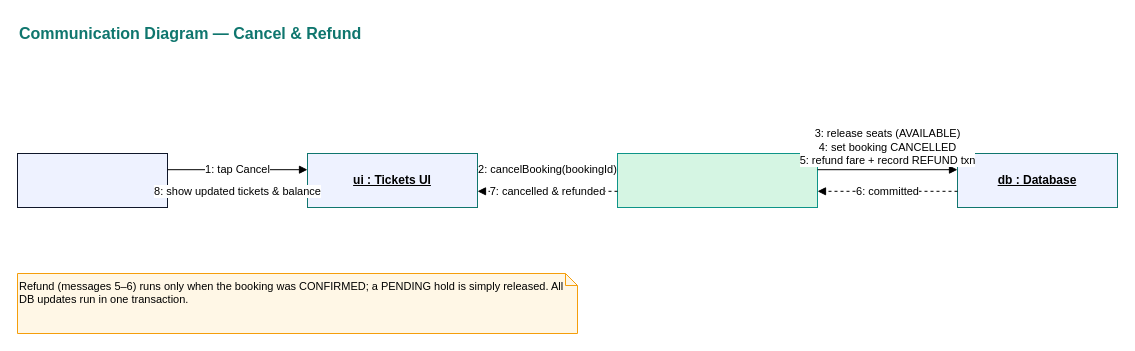
Image size: 1135x351. Some labels were removed from this diagram. The centre of each missing label's shape, as x and y in pixels:
": Commuter" goes at [92,180].
"svc : cancelBooking()" goes at [717,180].
